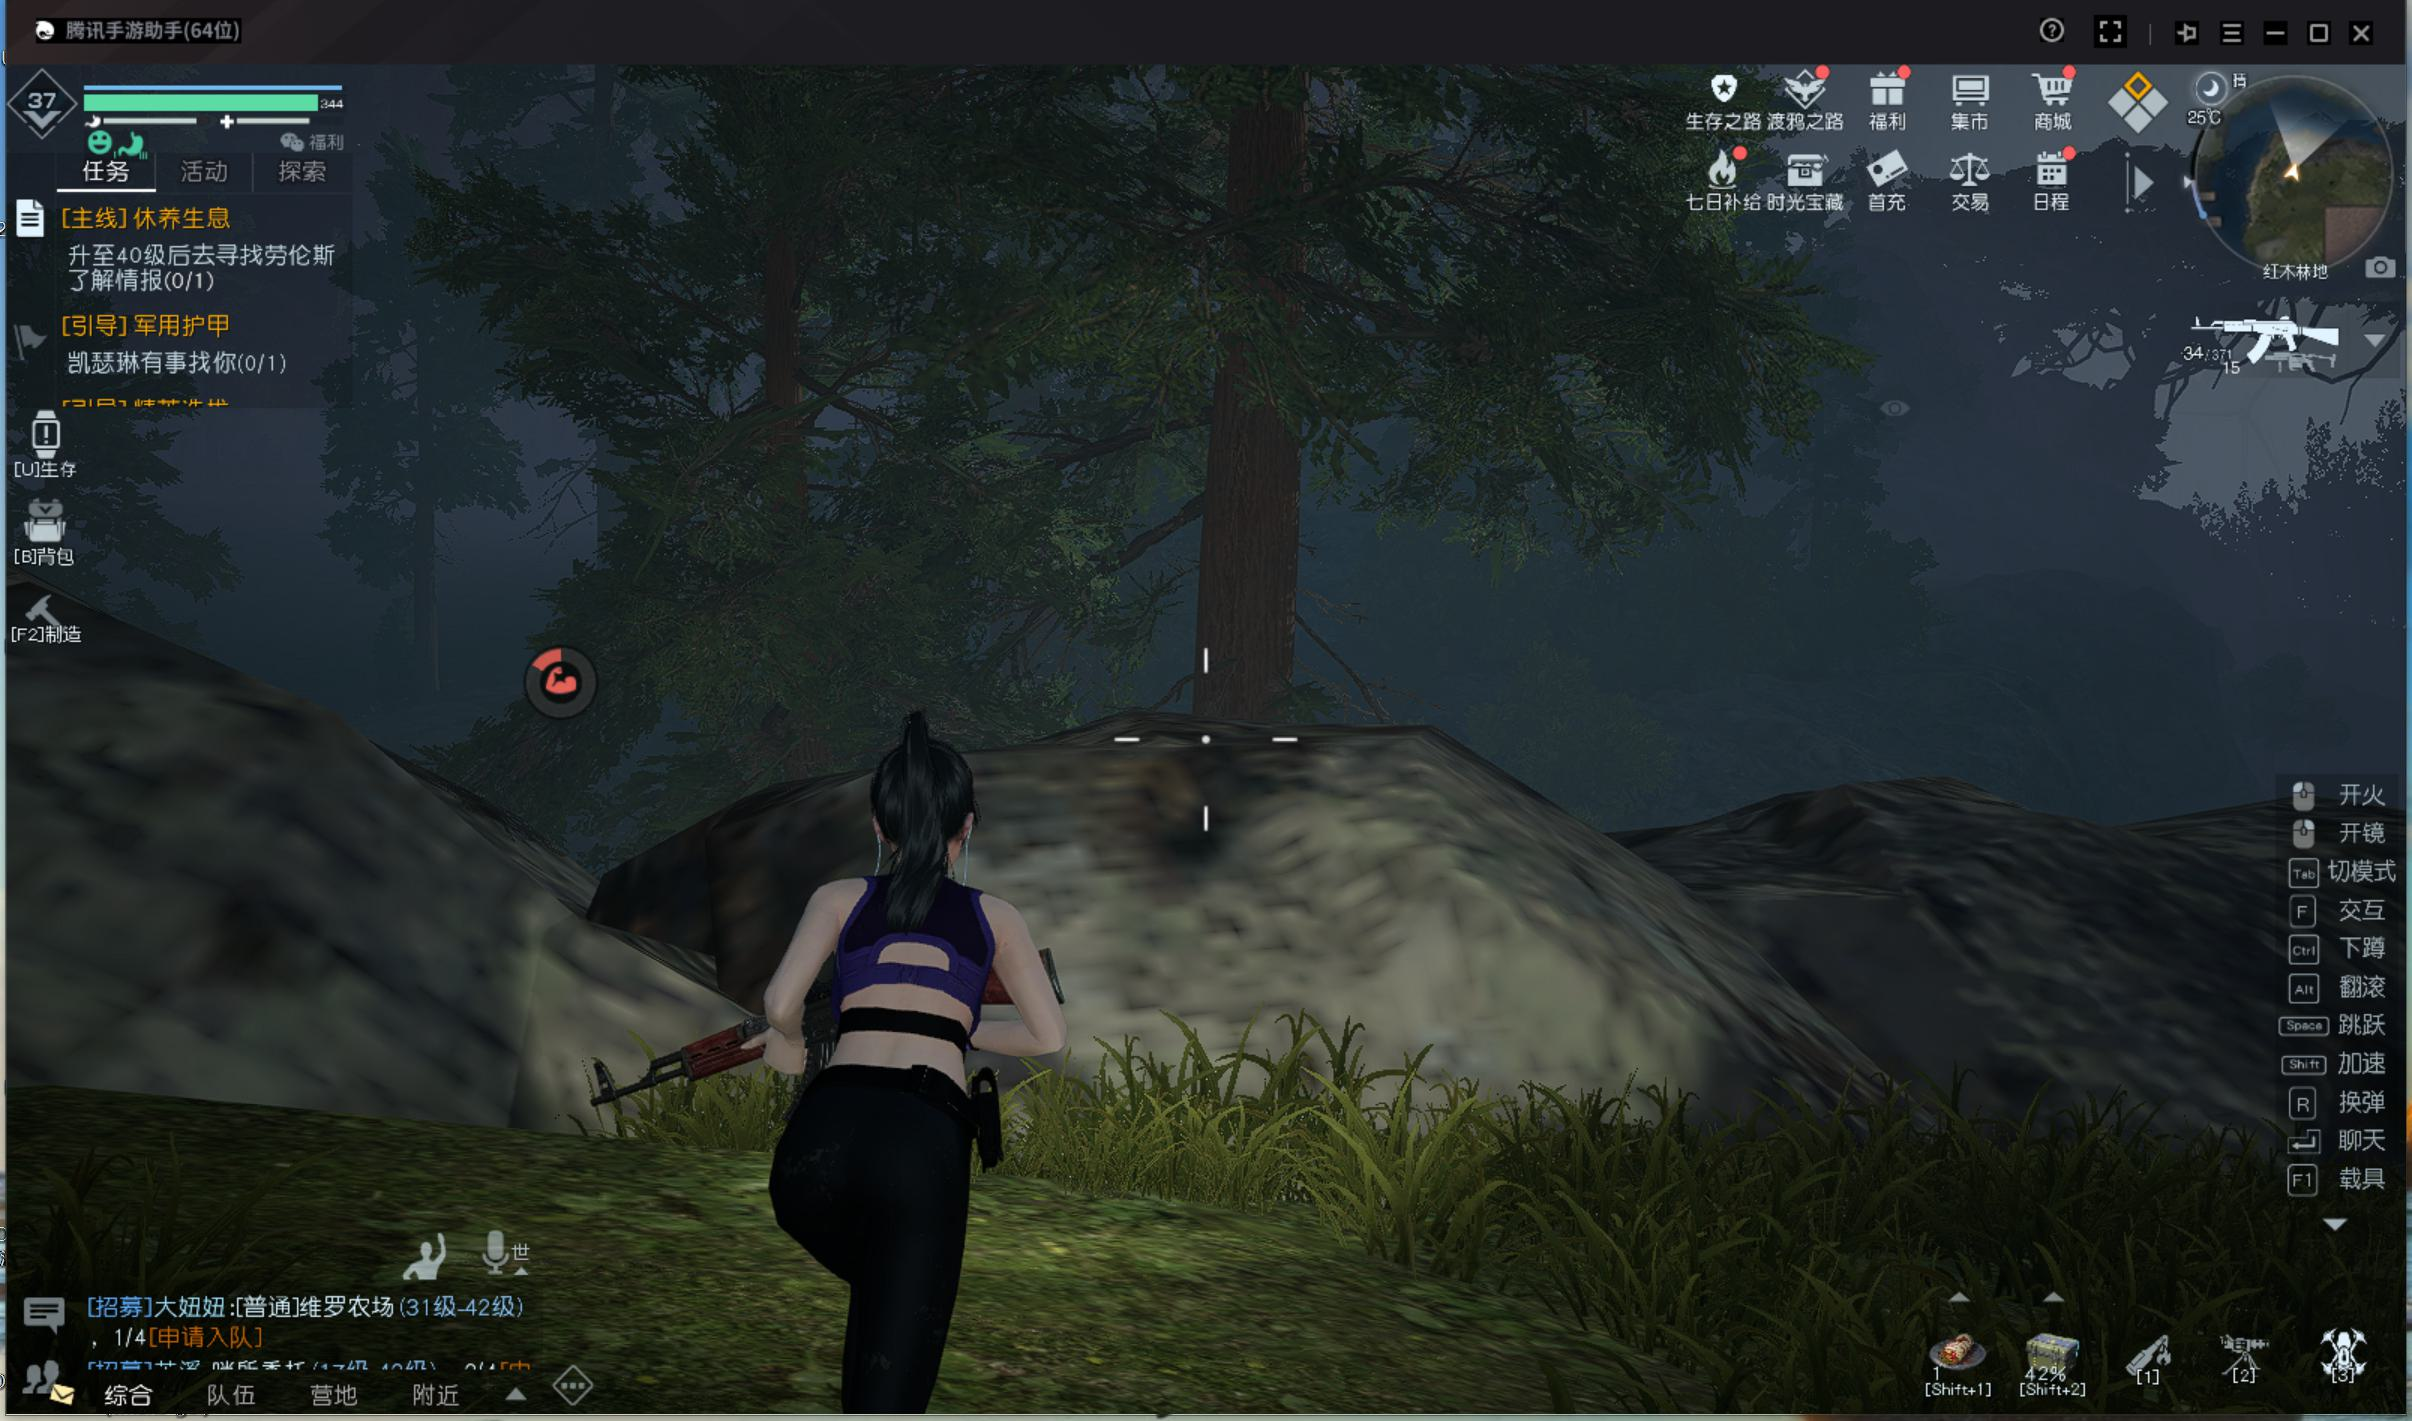tree: (1187, 376, 1304, 738)
